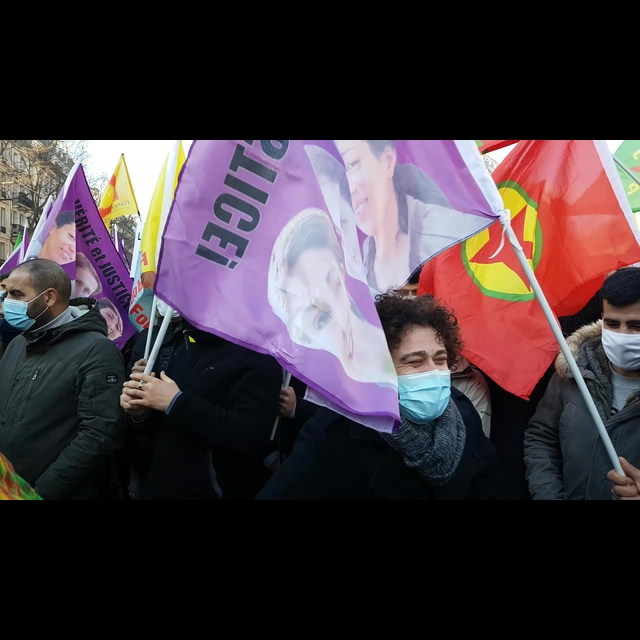PKK: (460, 170, 561, 322)
